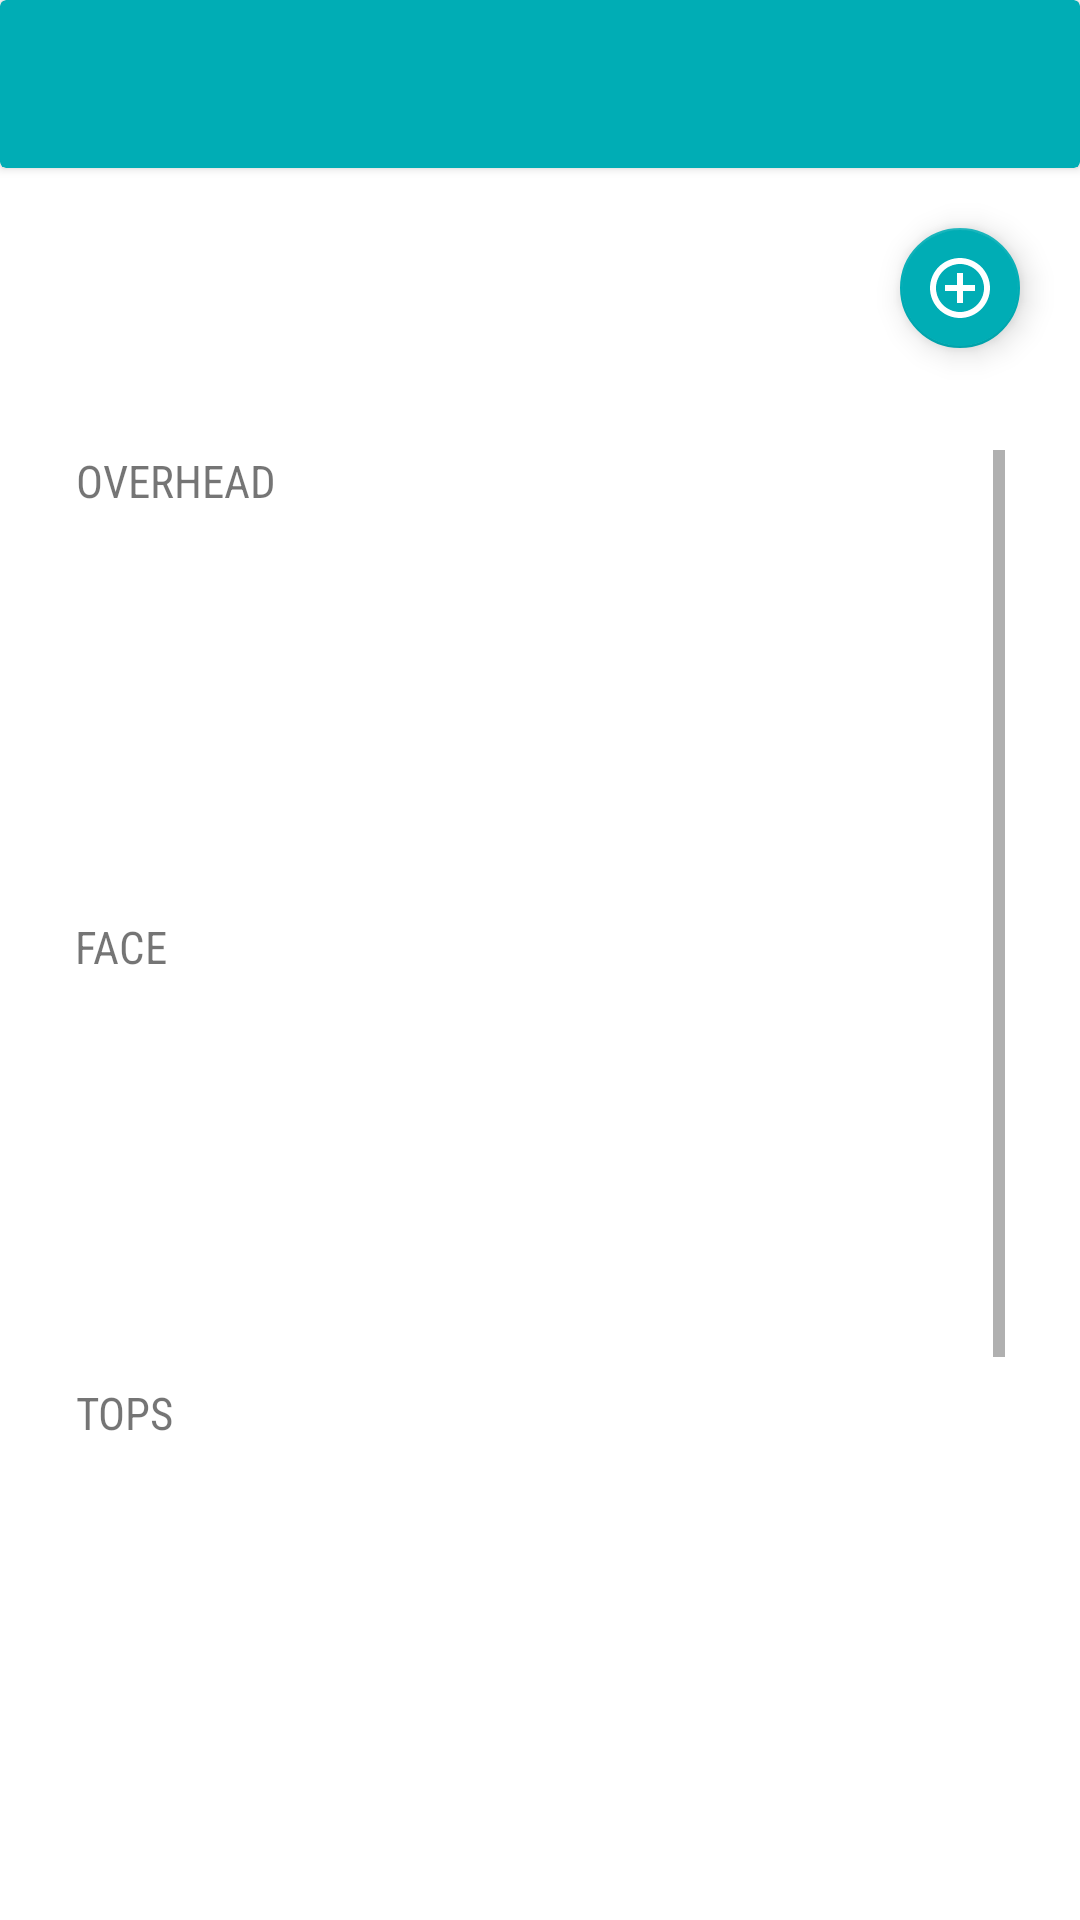

Point at icon controls on the screen. Image size 1080 × 1920, points as point (x, y).
add item: point (961, 288)
